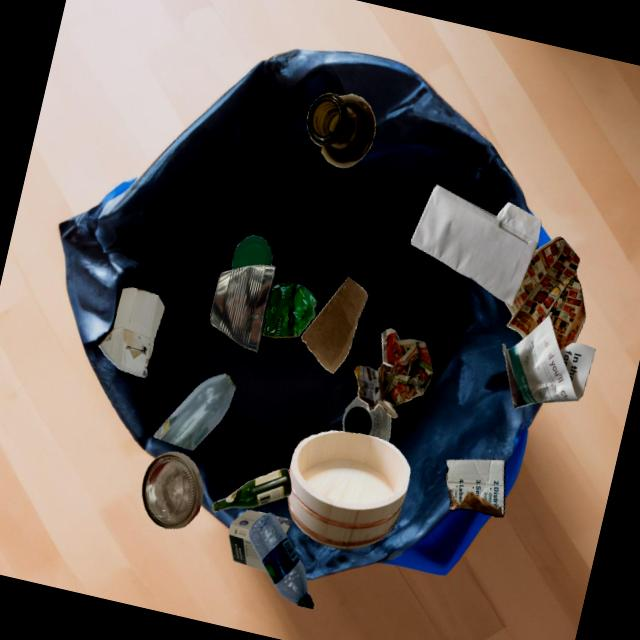cardboard: (301, 276, 367, 373), (98, 287, 164, 377), (445, 459, 505, 517), (228, 510, 267, 572)
combustible waste: (287, 430, 410, 550)
glass: (152, 373, 235, 450), (307, 93, 375, 168), (141, 451, 203, 528), (212, 468, 291, 512), (288, 468, 289, 473)
metal: (209, 264, 275, 353)
paper: (410, 184, 541, 306), (504, 236, 585, 349), (502, 315, 595, 408), (354, 328, 433, 418)
plastic: (248, 512, 313, 609), (262, 281, 317, 337), (342, 395, 391, 442), (232, 235, 272, 269)
